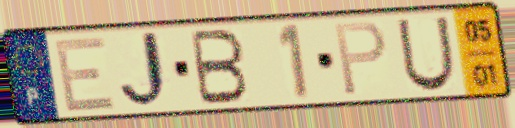1: (276, 21, 312, 103)
B: (188, 27, 251, 107)
E: (51, 33, 119, 115)
J: (118, 29, 177, 113)
P: (332, 19, 390, 98)
U: (394, 15, 458, 95)
